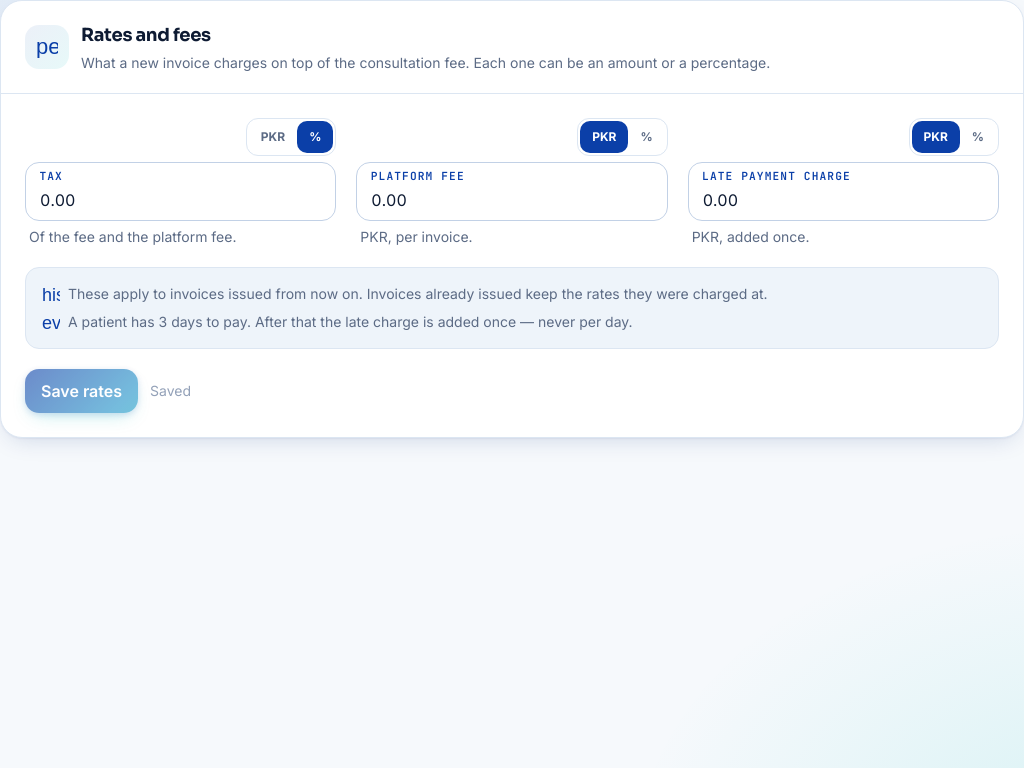
Scenario: what somebody is allowed to type › refuses a share of a bill larger than the bill
The width and height of the screenshot is (1024, 768).
Replace the text in the field labelled "Tax" with "150": (181, 191) left=25, top=162, right=336, bottom=221
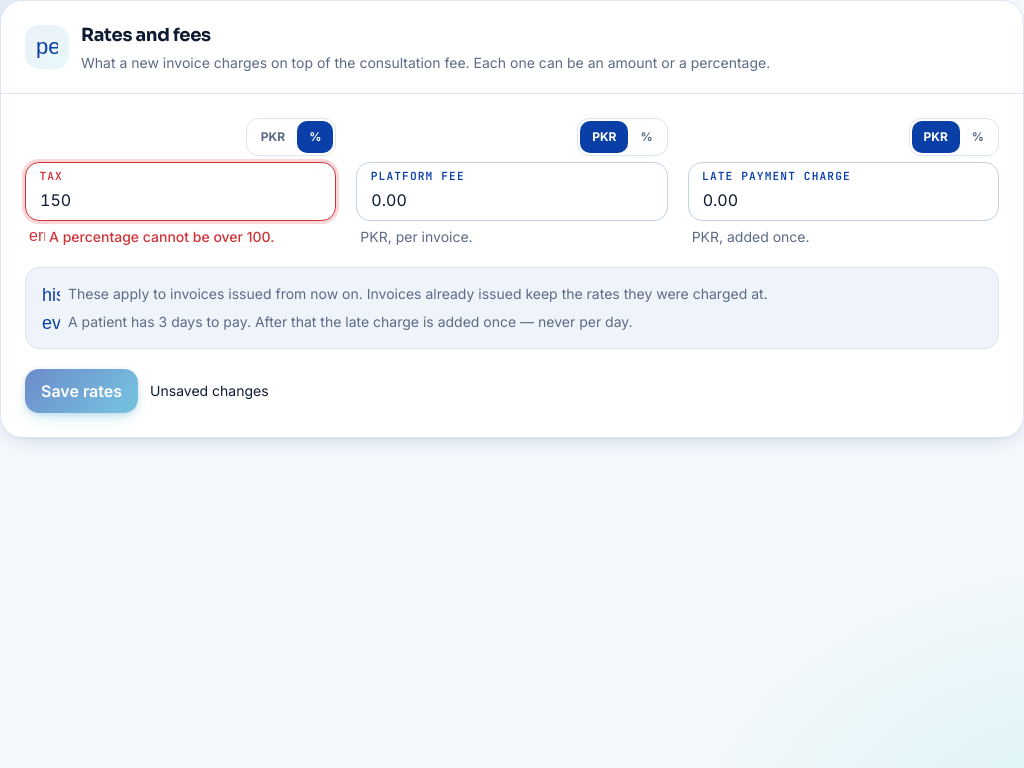
expect the button "Save rates" is disabled: met, box left=25, top=369, right=138, bottom=413
expect the text "A percentage cannot be over 100." is shown: met, box left=29, top=227, right=274, bottom=245
